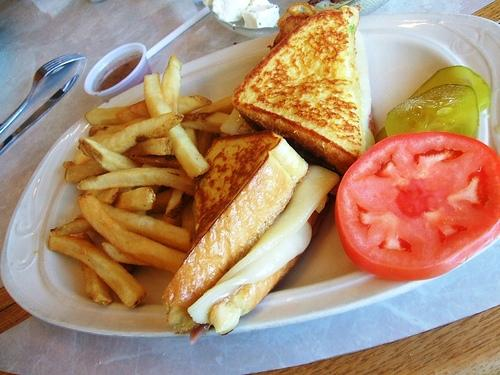tomato: (334, 132, 500, 280)
